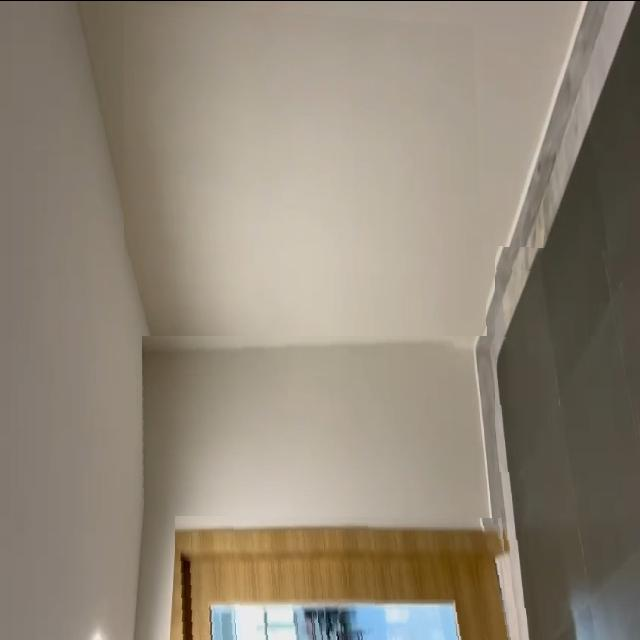door: (175, 515, 512, 640)
floor: (495, 245, 640, 640)
wall: (124, 0, 488, 335), (142, 332, 468, 504)
